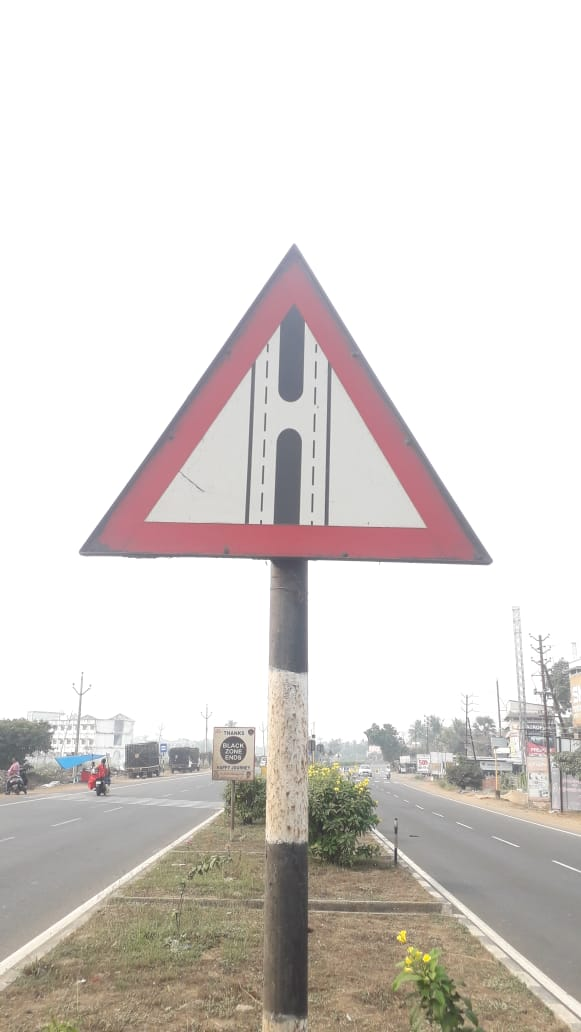highway go straight: (42, 220, 537, 627)
